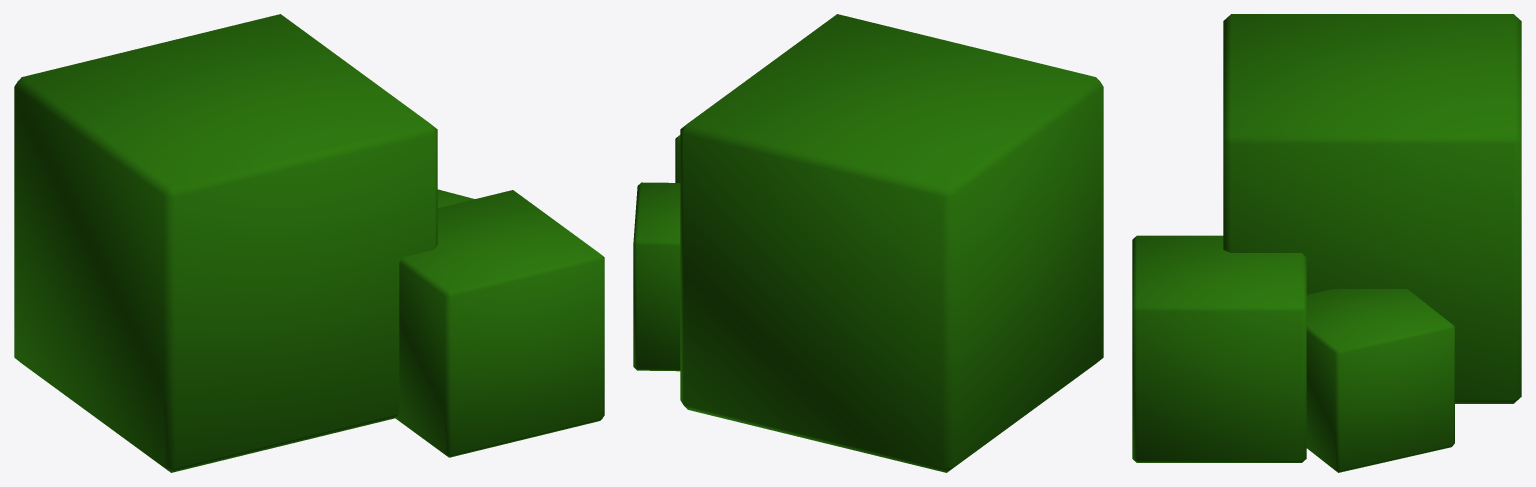
Rendered from bush-15_col.fbx.
3 views of the same model, side by side, from view 1: azimuth 30°, elevation 25°; view 2: azimuth 150°, elevation 25°; view 3: azimuth 270°, elevation 25° (orthographic). The views are drawn at different scales.
Parts seen in each view (by area): view 1: bush-15.col; view 2: bush-15.col; view 3: bush-15.col.
Part boxes in pixels (<box>): bush-15.col: <box>14,14,604,472</box>; bush-15.col: <box>633,14,1103,472</box>; bush-15.col: <box>1132,14,1521,472</box>.
Size of the model in its own units: 0.2823 by 0.1925 by 0.2467.
Materials: 1 (1 with a texture image).
